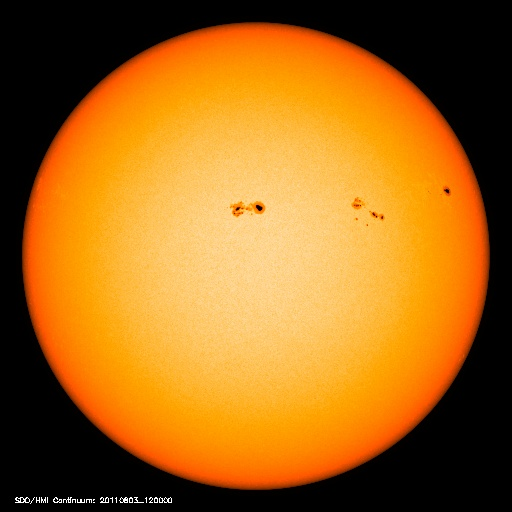sunspot: (346, 191, 393, 234), (223, 194, 273, 225), (431, 175, 462, 208)
